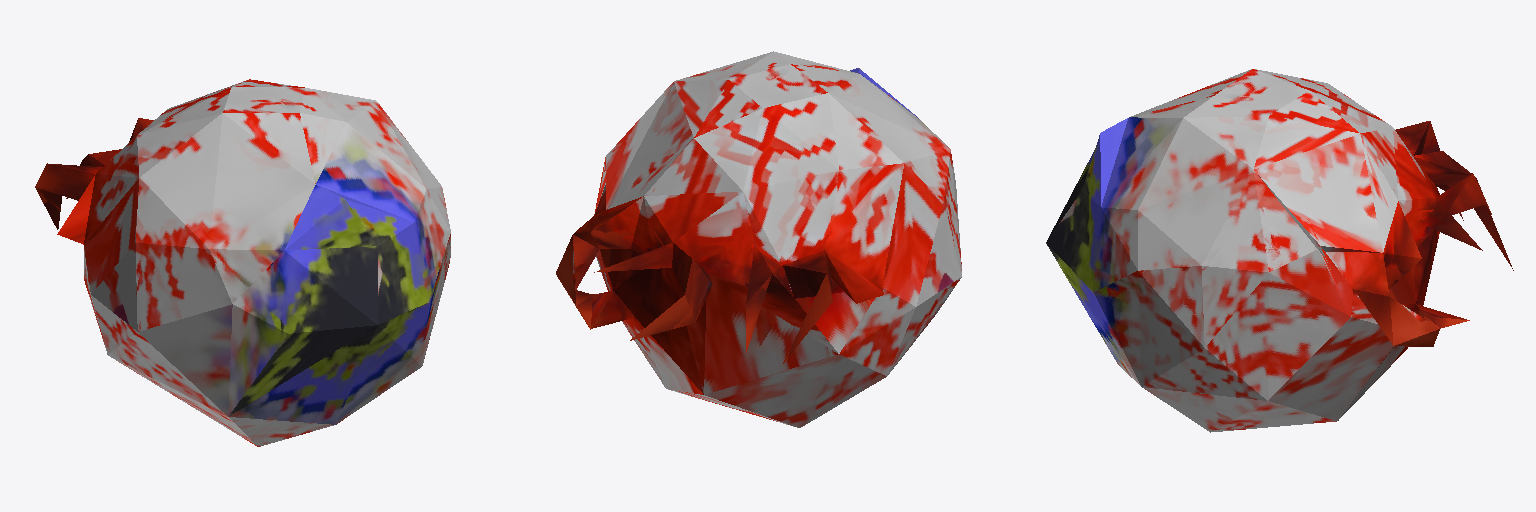
The picture shows the model from 3 angles: view 1: azimuth 30°, elevation 25°; view 2: azimuth 150°, elevation 25°; view 3: azimuth 270°, elevation 25°; orthographic projection.
Parts seen in each view (by area): view 1: ai_model; view 2: ai_model; view 3: ai_model.
Part boxes in pixels (bbox=[...]): ai_model: bbox=[35, 79, 450, 446]; ai_model: bbox=[556, 51, 961, 427]; ai_model: bbox=[1046, 69, 1513, 432].
Size of the model in its own units: 0.685 by 0.6859 by 0.8817.
1 materials, 1 textured.